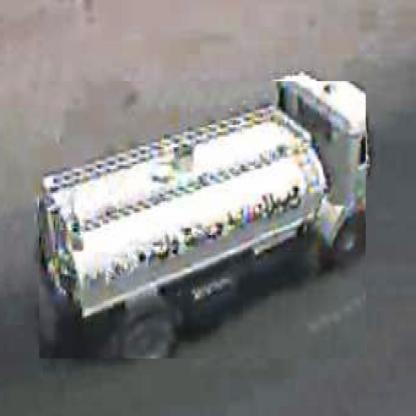truck: (39, 82, 367, 361)
